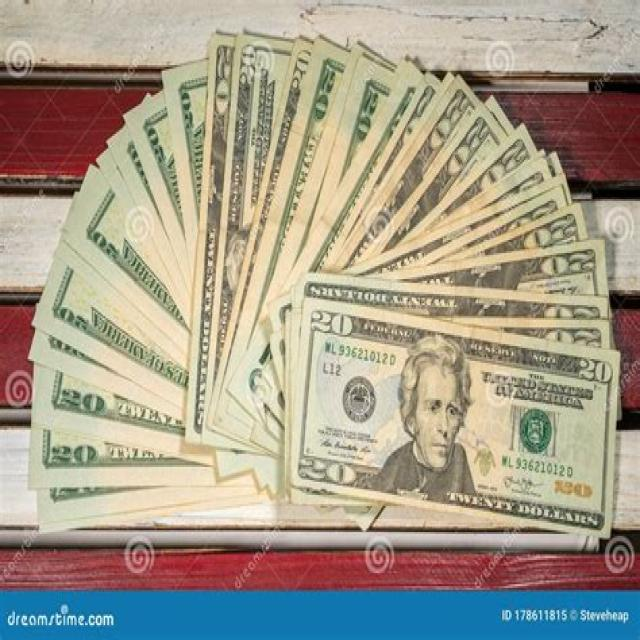Twenty: (296, 300, 613, 540)
